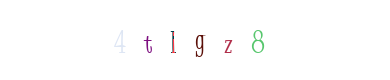4: (145, 0, 225, 80)
8: (200, 0, 280, 80)
G: (156, 0, 236, 80)
L: (154, 0, 234, 80)
T: (148, 0, 228, 80)
Z: (180, 0, 260, 80)
